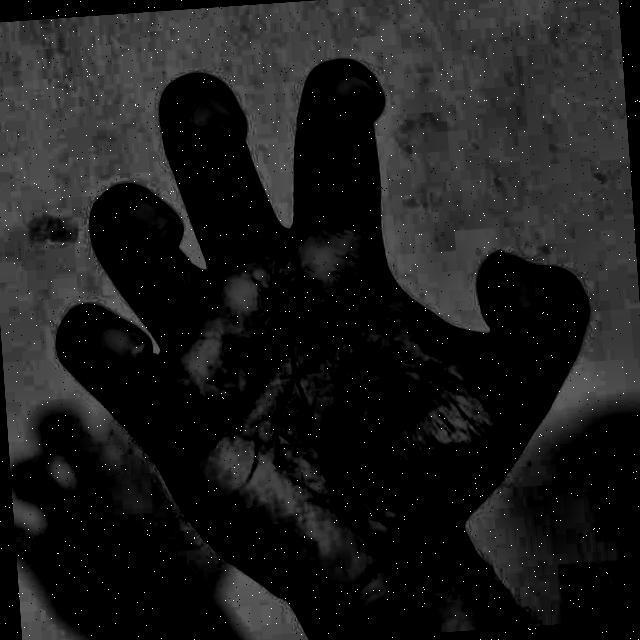Ja: (27, 11, 626, 640)
